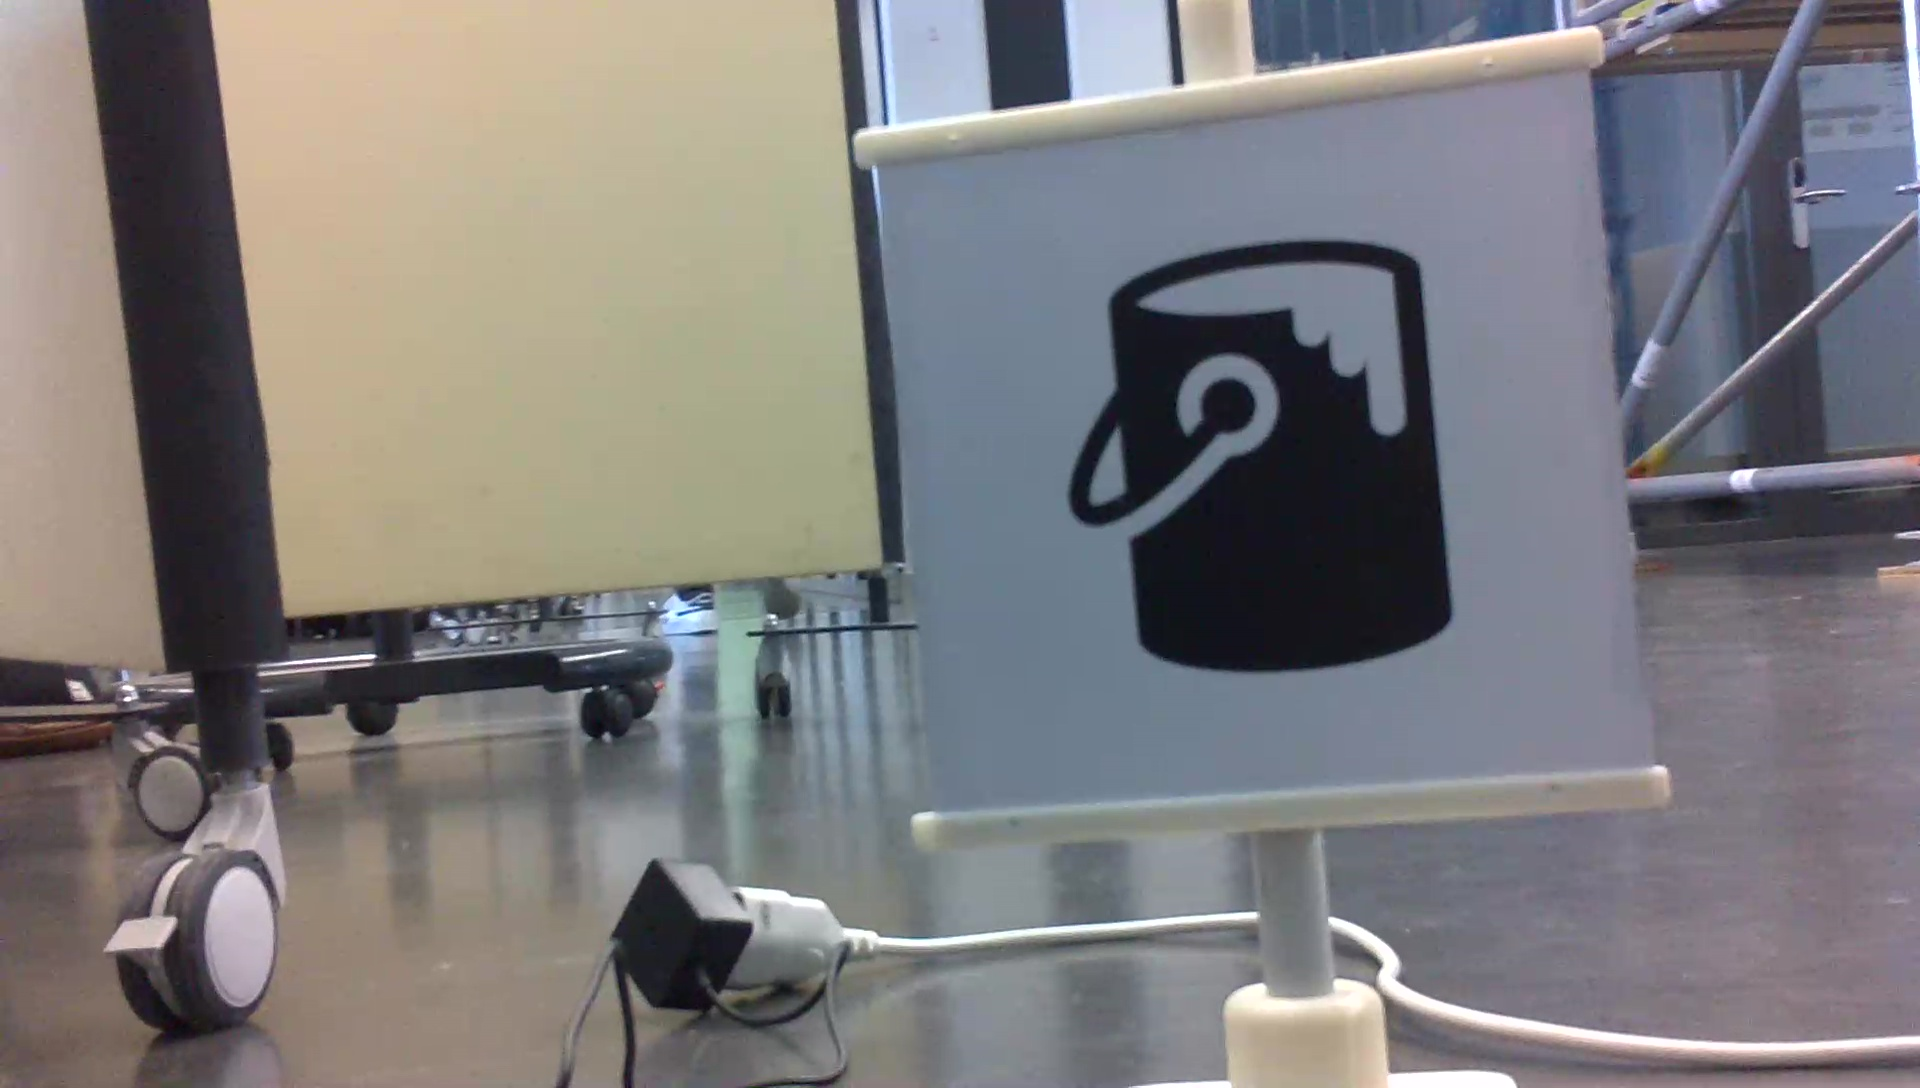bucket: (1058, 229, 1462, 683)
